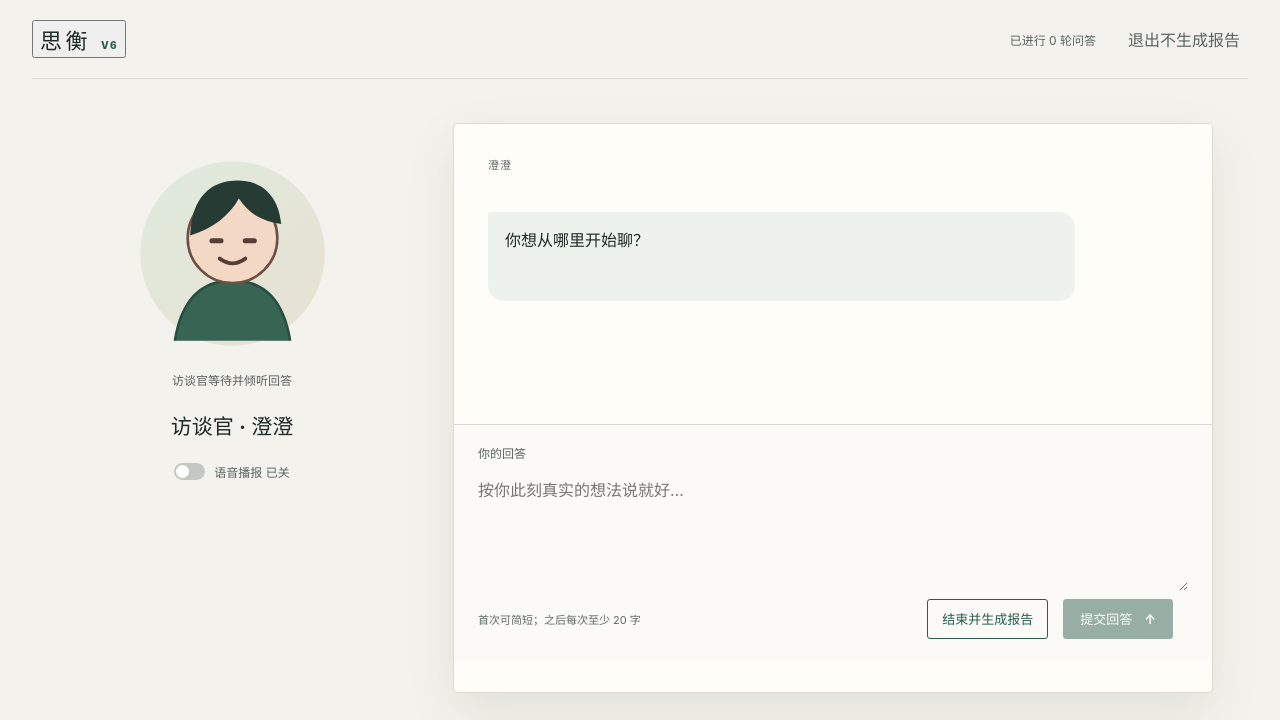
Test: InterviewView › keeps the interview open when the current evidence snapshot cannot be checked
Click the button with class "compact-action" at (988, 619), box [927, 599, 1048, 639]
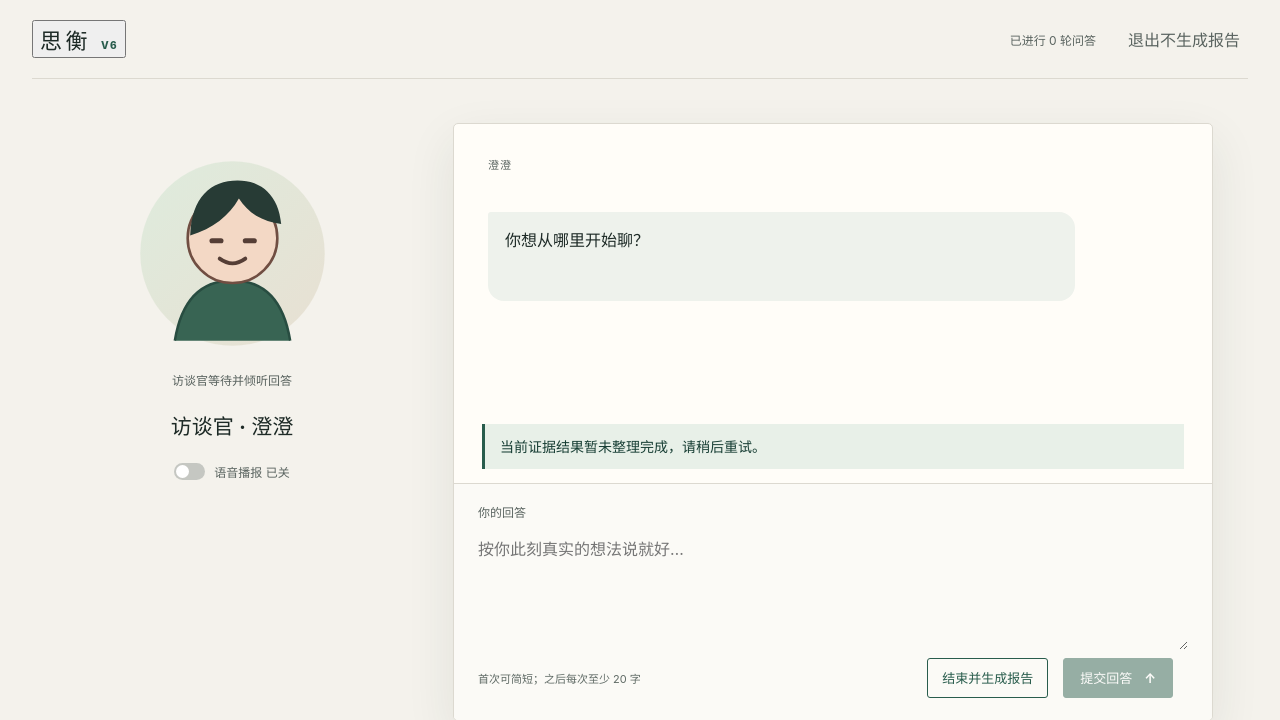
Now the text "当前证据结果暂未整理完成" is shown, box [500, 438, 766, 455]
